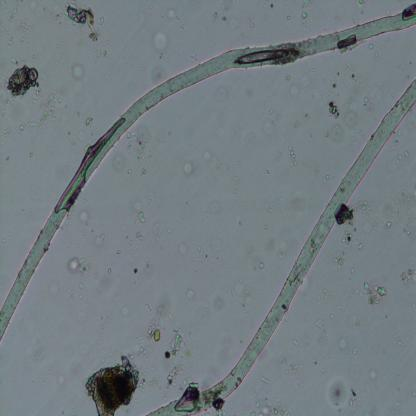Background material: (86, 353, 144, 415), (63, 2, 100, 44), (325, 376, 363, 410), (3, 64, 40, 98), (165, 328, 184, 386), (354, 278, 388, 309), (338, 204, 356, 251), (39, 91, 61, 125), (147, 24, 170, 55), (144, 312, 165, 345), (64, 255, 92, 278), (252, 396, 287, 414), (315, 316, 328, 347), (70, 60, 89, 80), (324, 98, 342, 119), (134, 202, 150, 225), (286, 144, 300, 170), (398, 268, 416, 284), (357, 200, 372, 218), (76, 209, 92, 224), (181, 159, 194, 177), (298, 1, 310, 19), (94, 233, 107, 248), (185, 287, 196, 302), (133, 229, 144, 243), (83, 116, 94, 128), (385, 219, 393, 230), (260, 262, 264, 270)
Microfibre: (0, 7, 416, 343), (145, 74, 416, 414)
